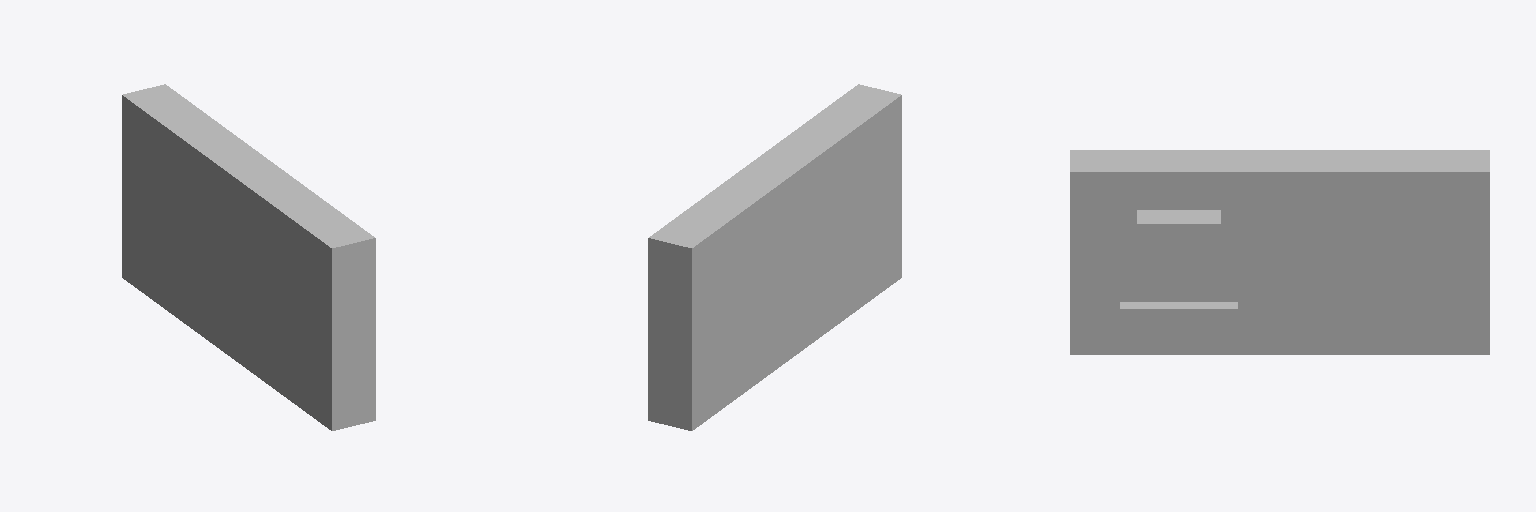
File: Quit.obj
3 views of the same model, side by side, from view 1: azimuth 30°, elevation 25°; view 2: azimuth 150°, elevation 25°; view 3: azimuth 270°, elevation 25° (orthographic).
Bounding box in the file's own units: 4 × 12 × 25.